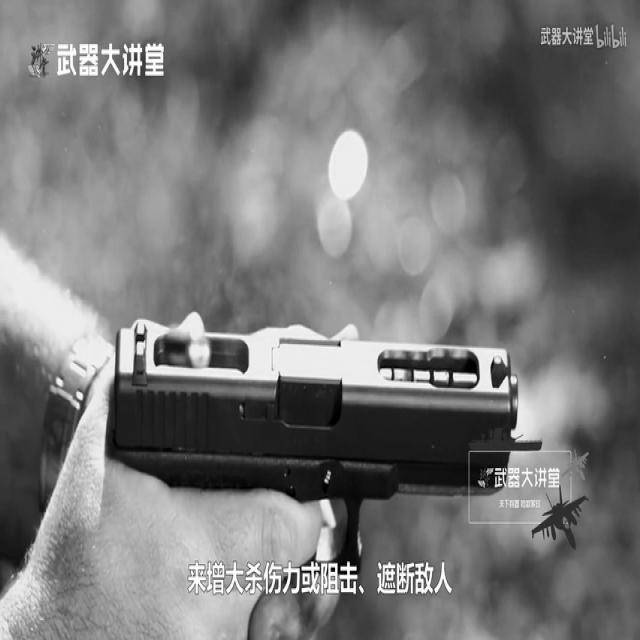Hand-Gun: (55, 253, 579, 640)
